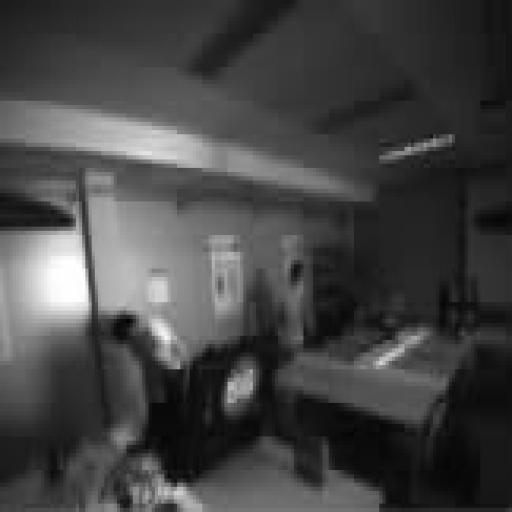human: (111, 311, 186, 444), (279, 261, 309, 356)
